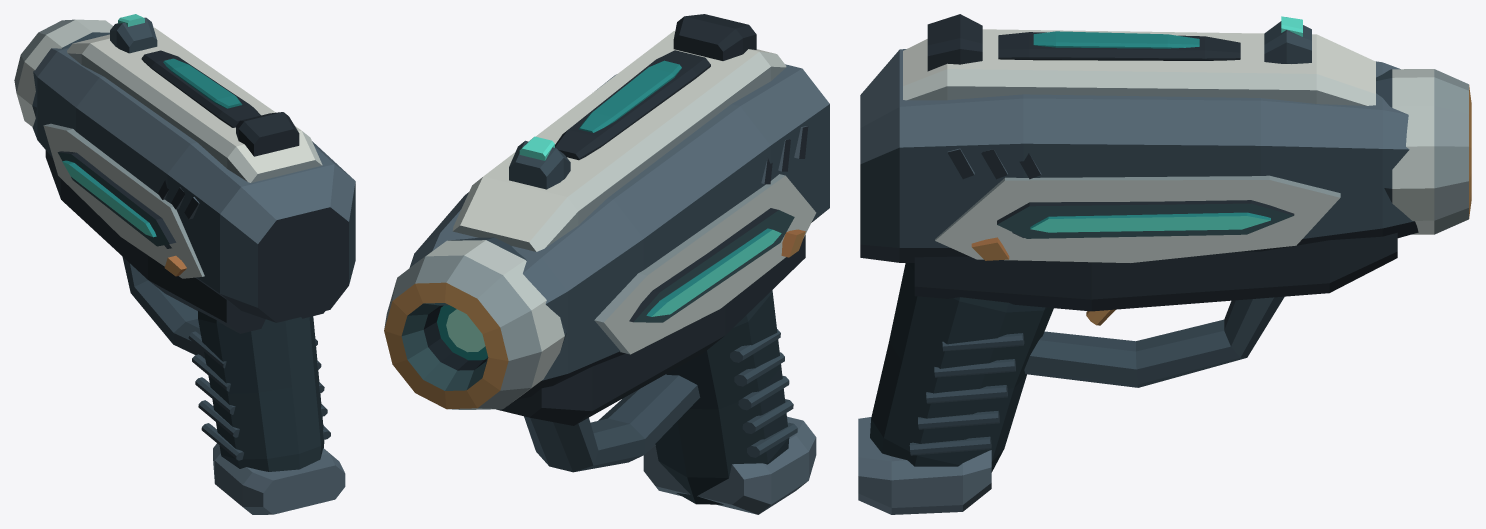
Rendered from OperatorPulse_Pistol.fbx.
3 renders of one model, left to right at view 1: azimuth 30°, elevation 25°; view 2: azimuth 150°, elevation 25°; view 3: azimuth 270°, elevation 25°, orthographic. The views are drawn at different scales.
Parts seen in each view (by area): view 1: Receiver, Grip, TopSpine, Armor_L, Emitter, Guard; view 2: Receiver, TopSpine, Emitter, Grip, Armor_L, Guard; view 3: Receiver, TopSpine, Grip, Armor_R, Emitter, Guard.
Boxes of the visible parts, x1,y1,x2,y2 form: Receiver: [32, 47, 355, 333]; Grip: [188, 311, 345, 514]; TopSpine: [67, 14, 322, 182]; Armor_L: [43, 123, 204, 278]; Emitter: [14, 19, 112, 126]; Guard: [122, 256, 205, 358]; Receiver: [409, 64, 829, 425]; TopSpine: [452, 14, 786, 251]; Emitter: [384, 237, 566, 409]; Grip: [643, 290, 816, 514]; Armor_L: [594, 126, 816, 354]; Guard: [524, 374, 700, 472]; Receiver: [860, 49, 1418, 311]; TopSpine: [903, 14, 1375, 105]; Grip: [858, 263, 1053, 514]; Armor_R: [935, 148, 1340, 262]; Emitter: [1376, 69, 1471, 234]; Guard: [1024, 296, 1284, 387].
Size of the model in its own units: 0.1424 by 0.3054 by 0.3608.
Materials: 1 (1 with a texture image).
